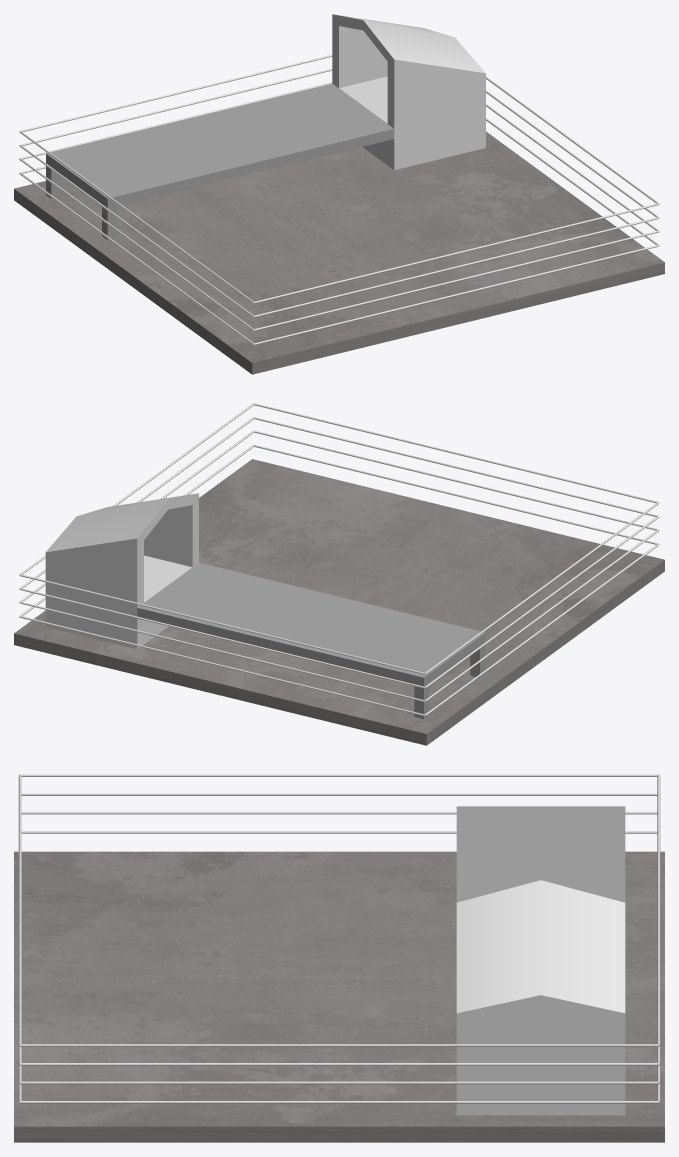
File: platform_test_belt.fbx
3 renders of one model, top to bottom at view 1: azimuth 30°, elevation 25°; view 2: azimuth 150°, elevation 25°; view 3: azimuth 270°, elevation 25°, orthographic. The views are drawn at different scales.
Visible parts, largest first — view 1: pCube1, pCube6, pCube2, sweep5, sweep9, sweep13, sweep1, sweep15, sweep11, sweep14, sweep2, sweep10 (+6 smaller); view 2: pCube1, pCube6, pCube2, sweep11, sweep15, sweep3, sweep7, sweep13, sweep9, sweep5, sweep1, sweep6 (+4 smaller); view 3: pCube1, pCube2, pCube6, sweep8, sweep4, sweep12, sweep16, sweep14, sweep10, sweep6, sweep2, sweep13 (+1 smaller).
Boxes of the visible parts, x1,y1,x2,y2 form: pCube1: (14,131,664,374); pCube6: (46,83,394,239); pCube2: (332,14,485,170); sweep5: (254,230,659,331); sweep9: (254,217,659,317); sweep13: (254,203,659,303); sweep1: (254,245,658,345); sweep15: (20,55,332,131); sweep11: (20,68,332,145); sweep14: (19,131,253,303); sweep2: (19,172,253,345); sweep10: (19,145,253,317); pCube1: (14,459,664,745); pCube6: (137,562,485,719); pCube2: (45,493,198,649); sweep11: (19,588,424,688); sweep15: (19,574,424,674); sweep3: (19,616,424,716); sweep7: (19,601,424,702); sweep13: (254,403,658,503); sweep9: (254,417,658,516); sweep5: (254,430,658,530); sweep1: (254,444,658,544); sweep6: (425,529,659,702); pCube1: (14,851,664,1142); pCube2: (456,880,625,1115); pCube6: (456,806,625,902); sweep8: (20,1081,658,1084); sweep4: (20,1101,658,1103); sweep12: (20,1063,658,1065); sweep16: (20,1044,658,1046); sweep14: (20,774,658,776); sweep10: (21,793,657,795); sweep6: (21,811,657,814); sweep2: (21,831,657,833); sweep13: (18,774,21,1046).
Size of the model in its own units: 740 by 238 by 740.
